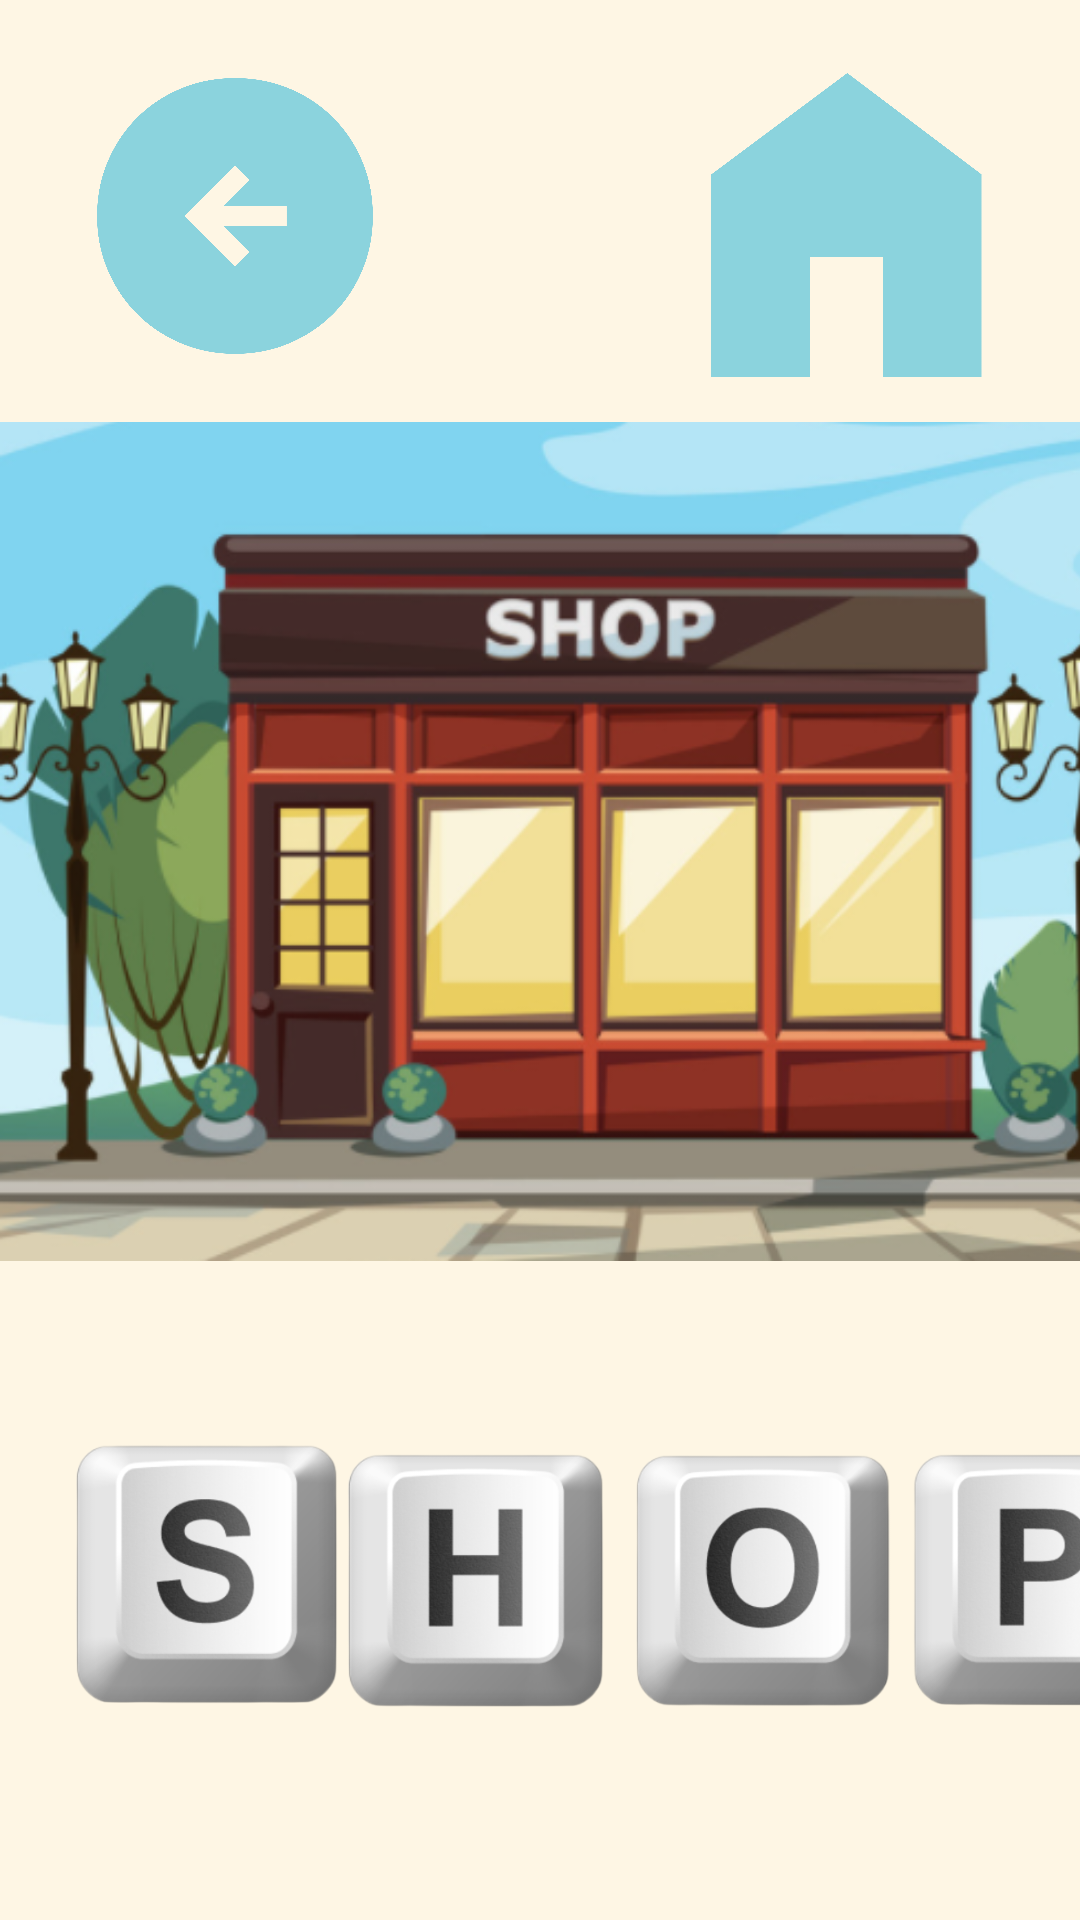

Icon click points for this 1080px×1920px phone screenshot, format [x,y]:
back: [235,216]
home: [846,225]
